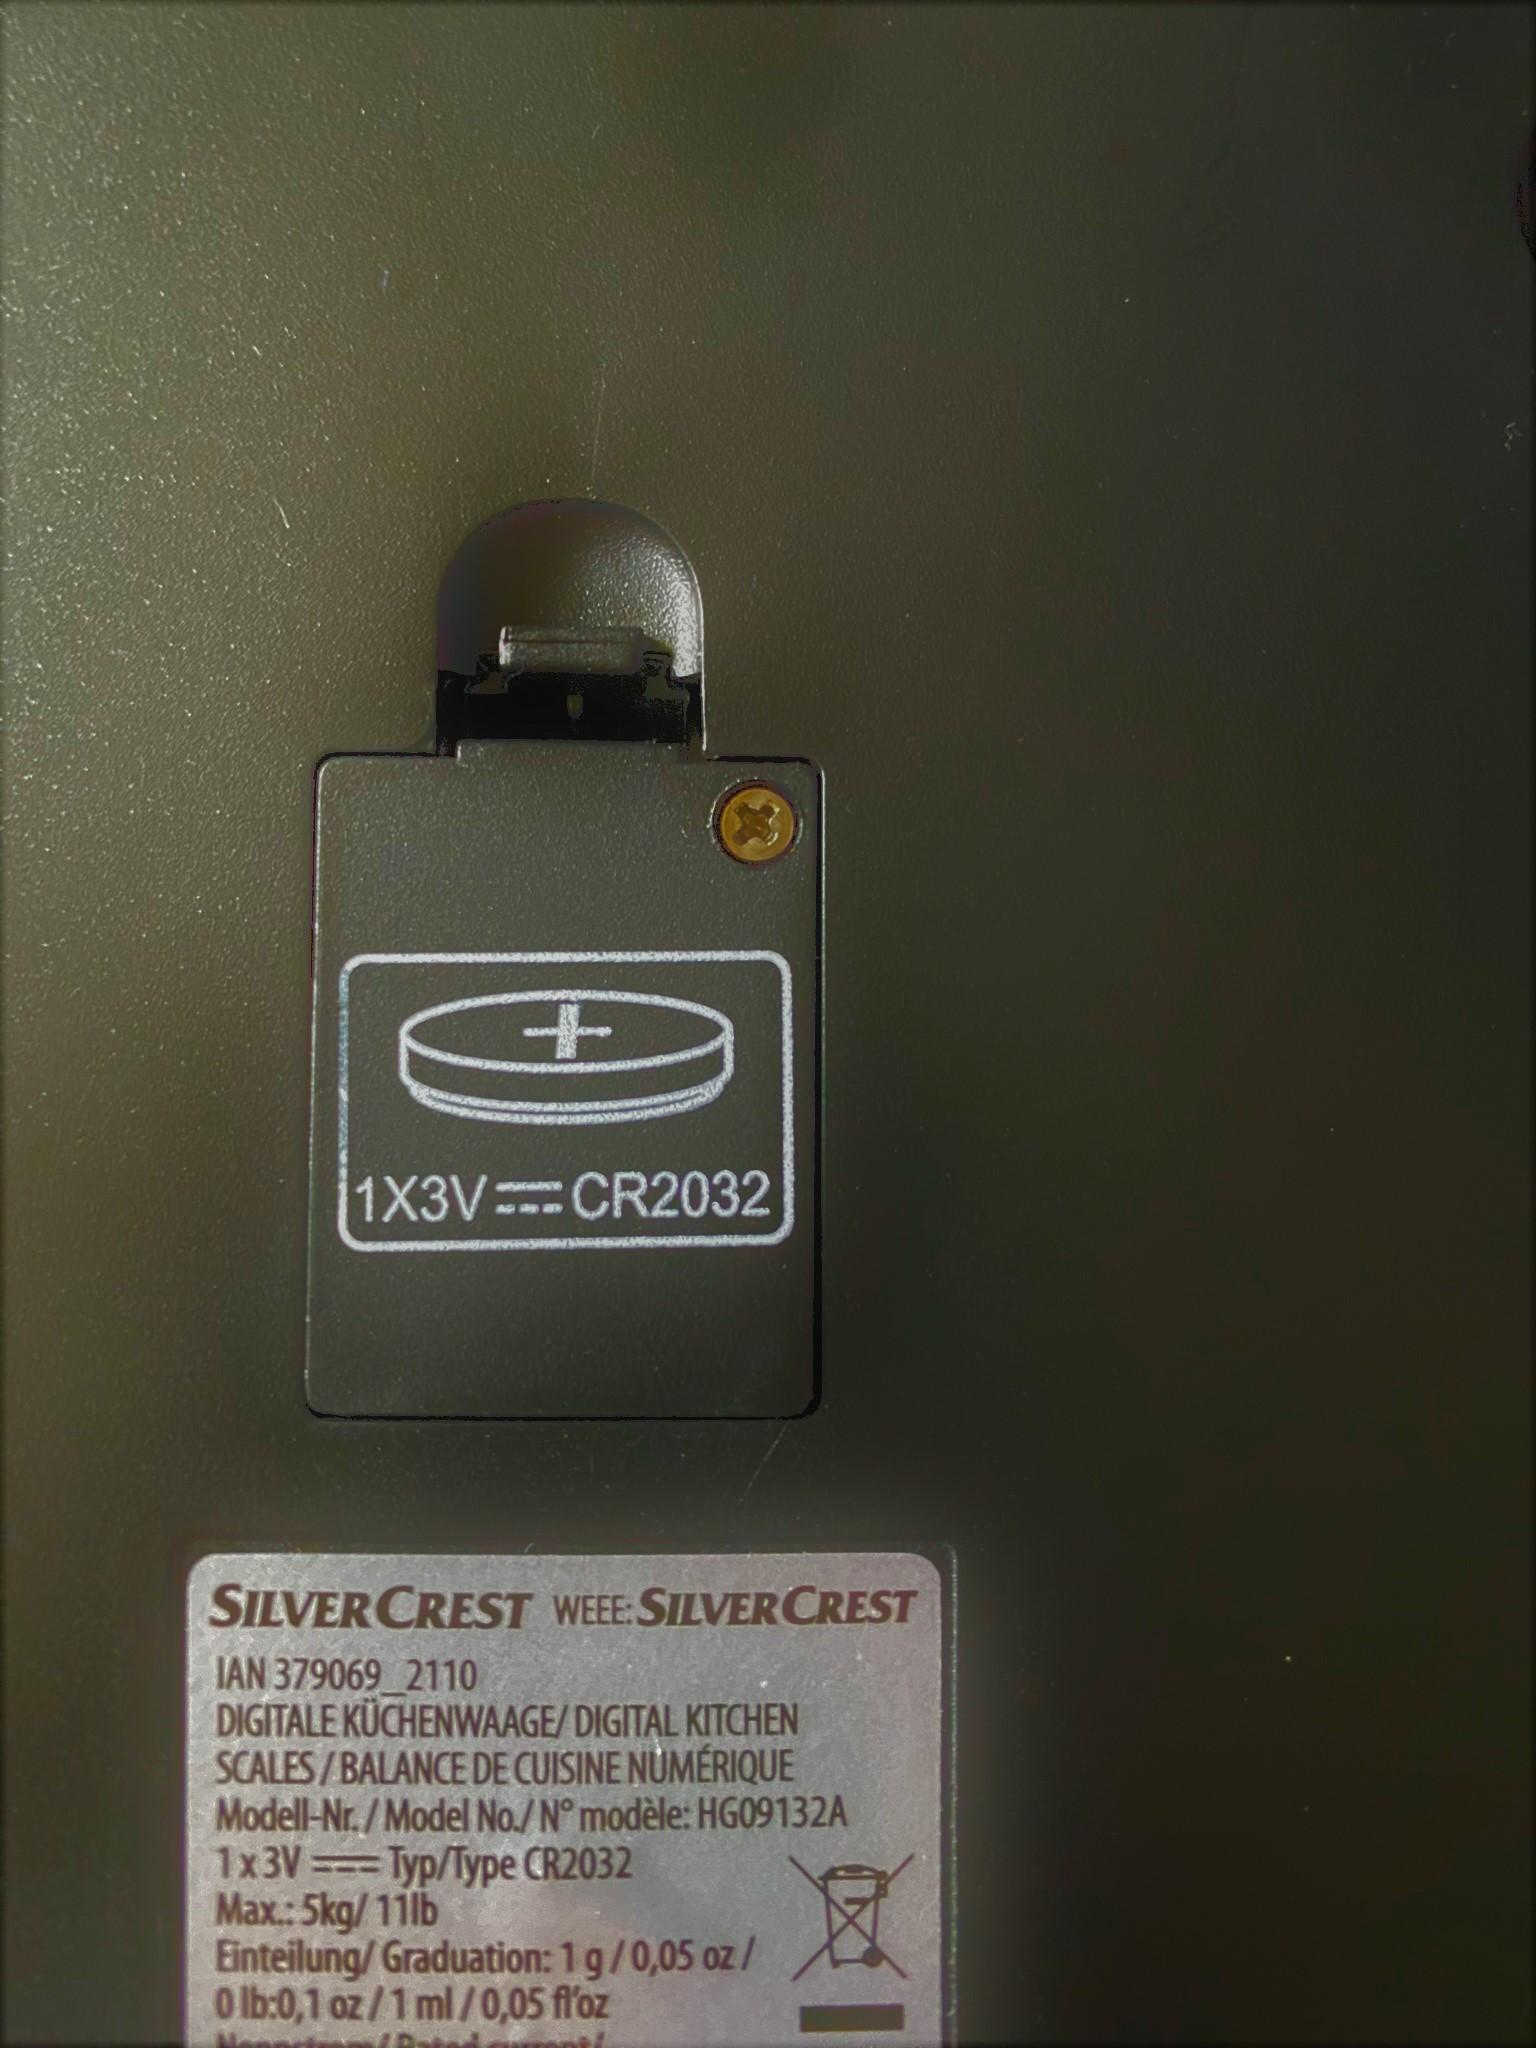PH: (716, 777, 800, 864)
